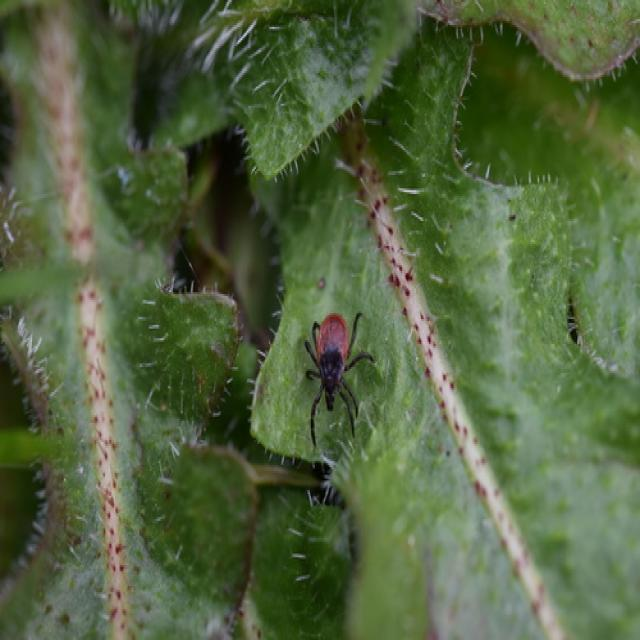Ixodes Ricinus-F: (305, 313, 372, 467)
